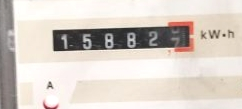1: (59, 32, 69, 50)
2: (147, 29, 158, 46)
5: (80, 32, 92, 49)
7: (169, 35, 180, 48)
8: (103, 31, 114, 48), (126, 31, 136, 47)
screen: (45, 18, 200, 56)
